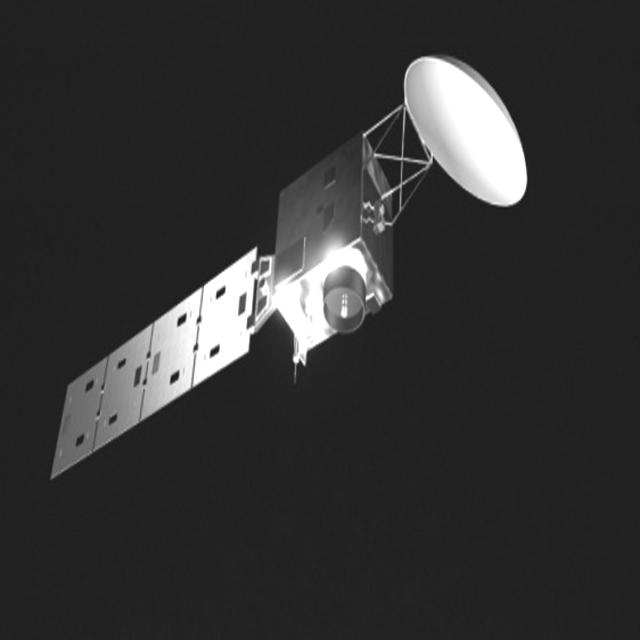satellite: (45, 42, 539, 507)
